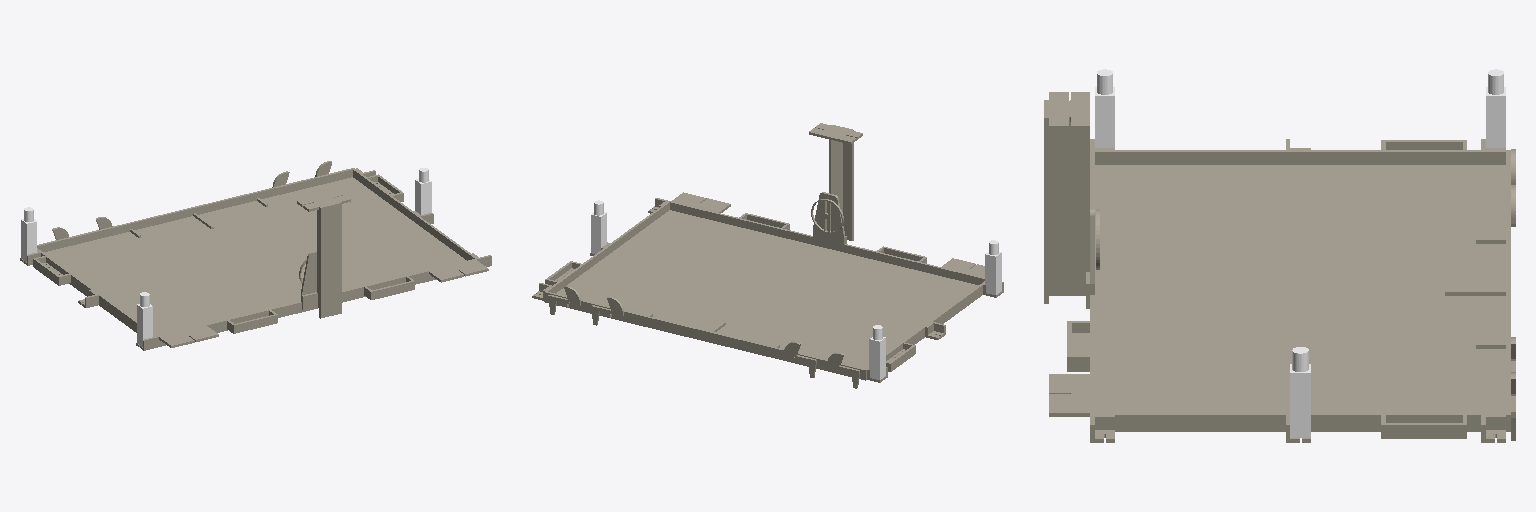
The robot description file, URDF, robot "field":
<?xml version="1.0"?>
<robot name="field">
  <material name="Grey">
    <color rgba=".99 .98 .88 1"/>
  </material>
  <material name="White">
    <color rgba="1 1 1 1"/>
  </material>

  <link
    name="table">
    <inertial>
      <origin
        xyz="1.5 1.0647 -0.0033004"
        rpy="0 0 0" />
      <mass
        value="165.19" />
      <inertia
        ixx="13.61"
        ixy="-1.3214E-14"
        ixz="-4.0492E-15"
        iyy="113.31"
        iyz="-0.4109"
        izz="126.82" />
    </inertial>
    <visual>
      <origin
        xyz="1.5 -0.022 0"
        rpy="1.57079632679 0 1.57079632679" />
      <geometry>
        <mesh
          filename="package://eurobot_localization/models/Table_2020.stl" scale="0.001 0.001 0.001" />
      </geometry>
      <material
        name="grey">
        <color
          rgba="0.71 0.69 0.63 1" />
      </material>
    </visual>
    <!--collision>
      <origin
        xyz="1.5 -0.022 0"
        rpy="1.57079632679 0 1.57079632679" />
      <geometry>
        <mesh
          filename="package://eurobot_localization/models/Table_2020.stl" scale="0.001 0.001 0.001" />
      </geometry>
    </collision-->
  </link>

  <!--link name="table">
     <visual>
       <origin xyz="1.5 1.0 -0.011" rpy="0 0 0" />
       <geometry>
         <box size="3.044 2.044 0.022" />
       </geometry>
       <material name="Grey"/>
     </visual>
     <collision>
       <origin xyz="1.5 1.0 -0.01" rpy="0 0 0"/>
       <geometry>
         <box size="3.044 2.044 0.02" />
       </geometry>
     </collision>

     <visual>
       <origin xyz="-0.011 1.0 0.035" rpy="0 0 0" />
       <geometry>
         <box size="0.022 2.044 0.070" />
       </geometry>
       <material name="Grey"/>
     </visual>
     <collision>
       <origin xyz="-0.011 1.0 0.035" rpy="0 0 0"/>
       <geometry>
         <box size="0.022 2.044 0.070" />
       </geometry>
     </collision>

     <visual>
       <origin xyz="3.011 1.0 0.035" rpy="0 0 0" />
       <geometry>
         <box size="0.022 2.044 0.070" />
       </geometry>
       <material name="Grey"/>
     </visual>
     <collision>
       <origin xyz="3.011 1.0 0.035" rpy="0 0 0"/>
       <geometry>
         <box size="0.022 2.044 0.070" />
       </geometry>
     </collision>

     <visual>
       <origin xyz="1.5 -0.011 0.035" rpy="0 0 0" />
       <geometry>
         <box size="3.0 0.022 0.070" />
       </geometry>
       <material name="Grey"/>
     </visual>
     <collision>
       <origin xyz="1.5 -0.011 0.035" rpy="0 0 0"/>
       <geometry>
         <box size="3.0 0.022 0.070" />
       </geometry>
     </collision>

     <visual>
       <origin xyz="1.5 2.011 0.035" rpy="0 0 0" />
       <geometry>
         <box size="3.0 0.022 0.070" />
       </geometry>
       <material name="Grey"/>
     </visual>
     <collision>
       <origin xyz="1.5 2.011 0.035" rpy="0 0 0"/>
       <geometry>
         <box size="3.0 0.022 0.070" />
       </geometry>
     </collision>

   </link-->

   <link name="beacons">
     <visual>
       <origin xyz="-.094 .05 .4" rpy="0 0 0" />
       <geometry>
         <cylinder length="0.1" radius="0.04"/>
       </geometry>
       <material name="White"/>
     </visual>
     <collision>
       <origin xyz="-.094 .05 .4" rpy="0 0 0"/>
       <geometry>
         <cylinder length="0.1" radius="0.04"/>
       </geometry>
     </collision>

     <visual>
       <origin xyz="-0.092 .05 .175" rpy="0 0 0" />
       <geometry>
         <box size=".1 .1 .35" />
       </geometry>
       <material name="White"/>
     </visual>


     <visual>
       <origin xyz="-.094 1.95 .4" rpy="0 0 0" />
       <geometry>
         <cylinder length="0.1" radius="0.04"/>
       </geometry>
       <material name="White"/>
     </visual>
     <collision>
       <origin xyz="-.094 1.95 .4" rpy="0 0 0"/>
       <geometry>
         <cylinder length="0.1" radius="0.04"/>
       </geometry>
     </collision>

     <visual>
       <origin xyz="-0.092 1.95 .175" rpy="0 0 0" />
       <geometry>
         <box size=".1 .1 .35" />
       </geometry>
       <material name="White"/>
     </visual>


     <visual>
       <origin xyz="3.094 1 .4" rpy="0 0 0" />
       <geometry>
         <cylinder length="0.1" radius="0.04"/>
       </geometry>
       <material name="White"/>
     </visual>
     <collision>
       <origin xyz="3.094 .5 .4" rpy="0 0 0"/>
       <geometry>
         <cylinder length="0.1" radius="0.04"/>
       </geometry>
     </collision>

     <visual>
       <origin xyz="3.092 1 .175" rpy="0 0 0" />
       <geometry>
         <box size=".1 .1 .35" />
       </geometry>
       <material name="White"/>
     </visual>

    </link>

    <joint name="table_to_beacons" type="fixed">
      <parent link="table"/>
      <child link="beacons"/>
    </joint>
</robot>

--- What the picture shows (computed from the rendered views, not written in the file) ---
Views: 3 orthographic renders of the robot side by side, from view 1: azimuth 30°, elevation 25°; view 2: azimuth 150°, elevation 25°; view 3: azimuth 270°, elevation 25°.
Model field with 2 links and 1 joints (1 fixed), rooted at table, posed all joints at 0.
Links seen in each view (by area): view 1: table, beacons; view 2: table, beacons; view 3: table, beacons.
Boxes of the visible links, x1=… form: table: x1=20, y1=161, x2=491, y2=350; beacons: x1=21, y1=168, x2=431, y2=346; table: x1=532, y1=123, x2=1003, y2=388; beacons: x1=591, y1=200, x2=1001, y2=379; table: x1=1044, y1=92, x2=1515, y2=442; beacons: x1=1095, y1=69, x2=1505, y2=437.
Size in the robot's own frame: 3.29 by 2.29 by 1.1 metres.
1 mesh visuals loaded from 1 distinct referenced files (1 binary STL).